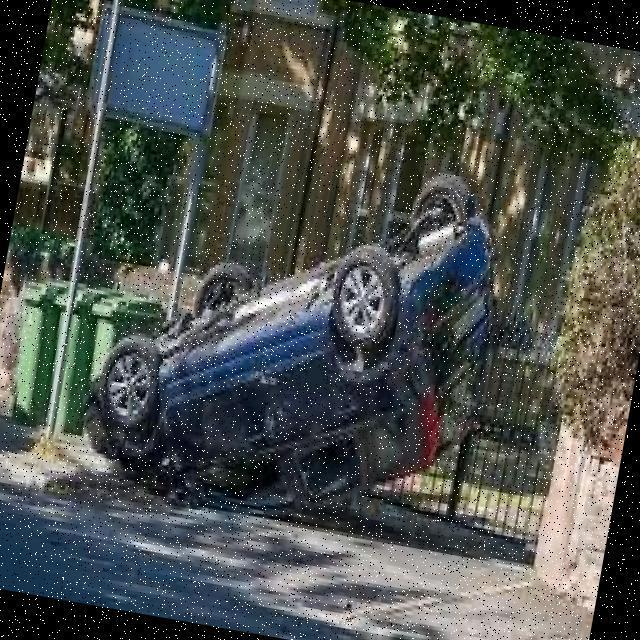accident: (65, 113, 531, 562)
